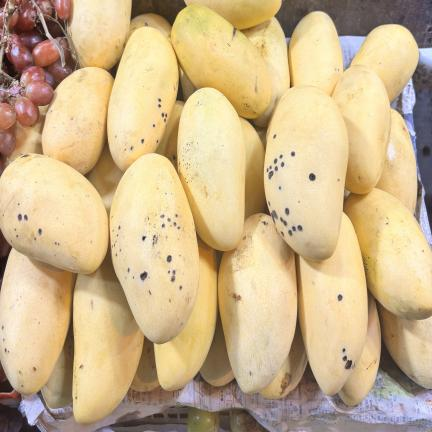mango: (109, 154, 199, 344), (263, 85, 349, 261)
occluded: (218, 213, 297, 393), (295, 213, 368, 395), (0, 153, 109, 273), (72, 251, 144, 424), (343, 188, 432, 320), (171, 5, 271, 119), (0, 249, 76, 395), (177, 88, 245, 251), (107, 27, 178, 171), (154, 237, 218, 391), (42, 67, 114, 175), (332, 65, 391, 194), (351, 24, 419, 103), (242, 17, 290, 126), (338, 290, 381, 405), (377, 302, 432, 389), (288, 11, 343, 96), (67, 0, 132, 71), (375, 109, 417, 214), (260, 320, 307, 399), (85, 140, 124, 218), (239, 117, 268, 220), (185, 0, 281, 30), (42, 321, 74, 408), (200, 313, 234, 386), (156, 100, 185, 171), (131, 337, 159, 392), (128, 13, 172, 42), (178, 63, 196, 102), (298, 182, 298, 182)
